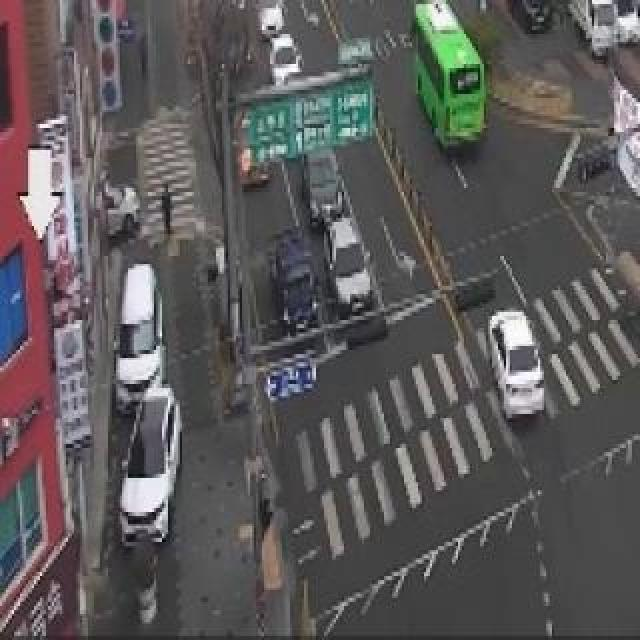truck: (263, 211, 323, 345), (566, 0, 618, 82)
